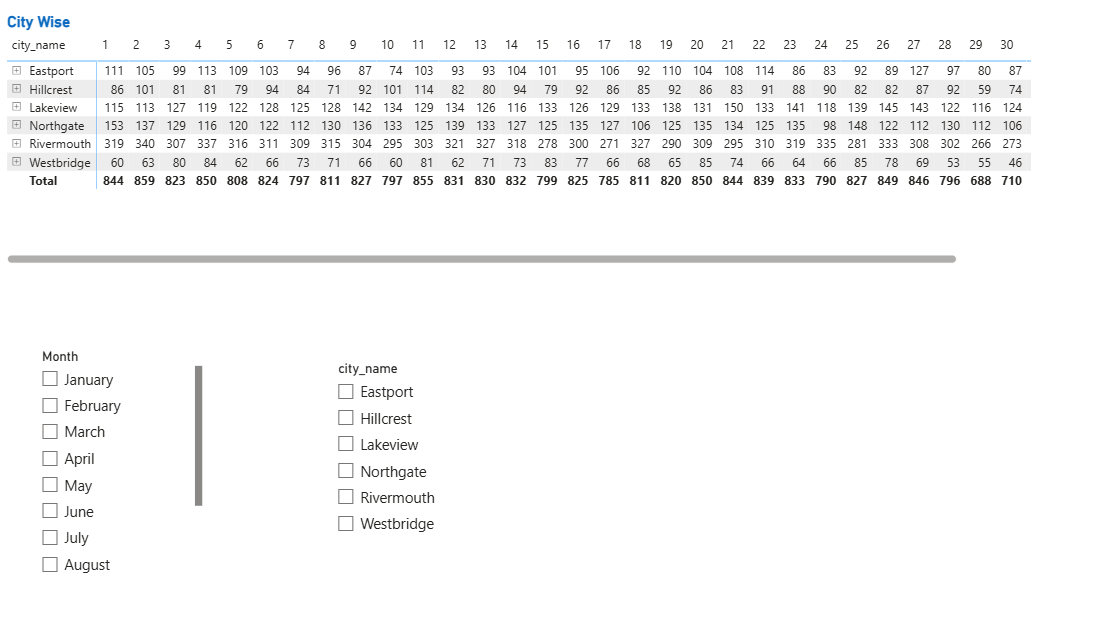

This screenshot's page, from the dashboard's own definition file:
{"tool":"powerbi","page":{"name":"City Wise","canvas":[1280,720],"ordinal":4},"visuals":[{"type":"pivotTable","title":"City Wise","fields":{"Rows":["sample_restaurant_master.city_name","sample_orders.Restaurant Name"],"Values":["Count(sample_orders.Order ID)"],"Columns":["sample_orders.Date.Variation.Date Hierarchy.Day"]},"box":[9.6,31.6,1133.5,279.9],"z":0},{"type":"slicer","fields":{"Values":["sample_orders.Date.Variation.Date Hierarchy.Month"]},"box":[39.8,395.2,193.5,260.7],"z":1000},{"type":"slicer","fields":{"Values":["sample_restaurant_master.city_name"]},"box":[365,408.9,193.5,233.3],"z":2000}]}

Visuals, with their boxes in screenshot pixels (x1, y1, x2, y2), scaled from the page's 1280x720 canvas onto the 1112x631 screenshot:
"City Wise" pivotTable: locate(8, 28, 993, 273)
slicer - sample_orders.Date.Variation.Date Hierarchy.Month: locate(35, 346, 203, 575)
slicer - sample_restaurant_master.city_name: locate(317, 358, 485, 563)
